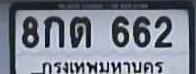2: (154, 15, 171, 47)
6: (132, 15, 149, 47), (111, 15, 128, 46)
8: (21, 15, 38, 47)
A01: (44, 15, 63, 47)
A21: (69, 16, 90, 47)
BKK: (38, 58, 166, 74)
